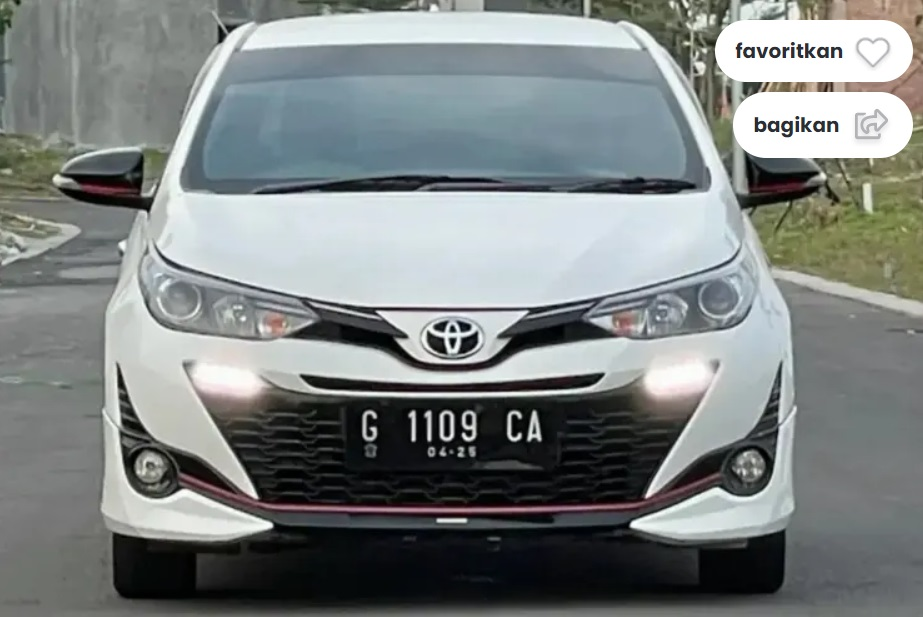plat nomor: (351, 407, 553, 467)
